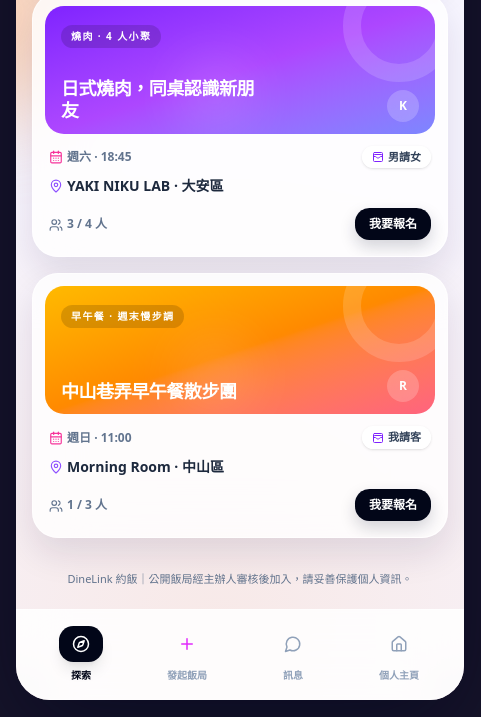
發起飯局表單 › 未輸入地點時會提示先輸入地址再定位
(page scrolled)
Step 1. Click the button "發起飯局" → {"x": 187, "y": 655}, box [134,620,240,689]
(page scrolled)
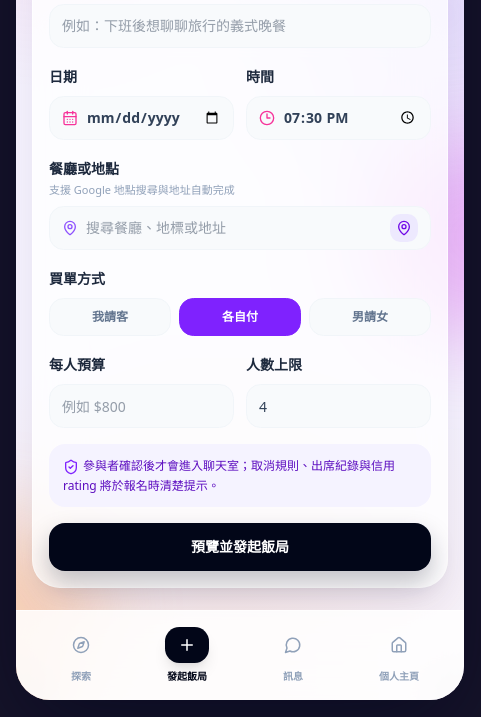
Step 2. Click the button named "在地圖確認餐廳位置" → {"x": 404, "y": 228}, box [390,214,418,242]
(page scrolled)
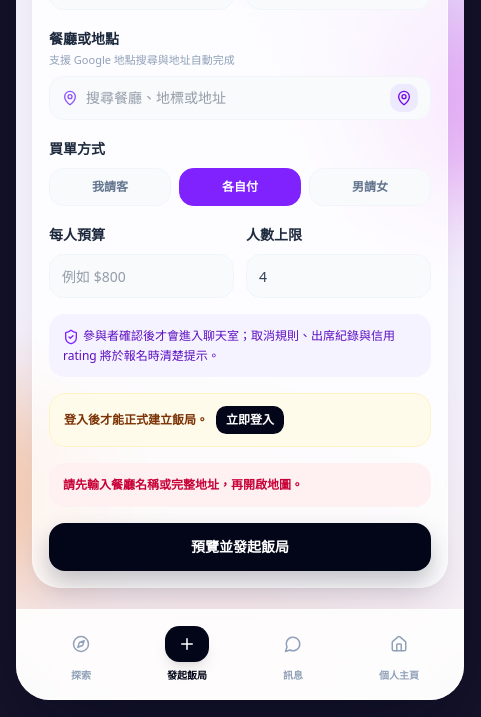
Check: the message shows "請先輸入餐廳名稱或完整地址", box [63,476,303,493]
